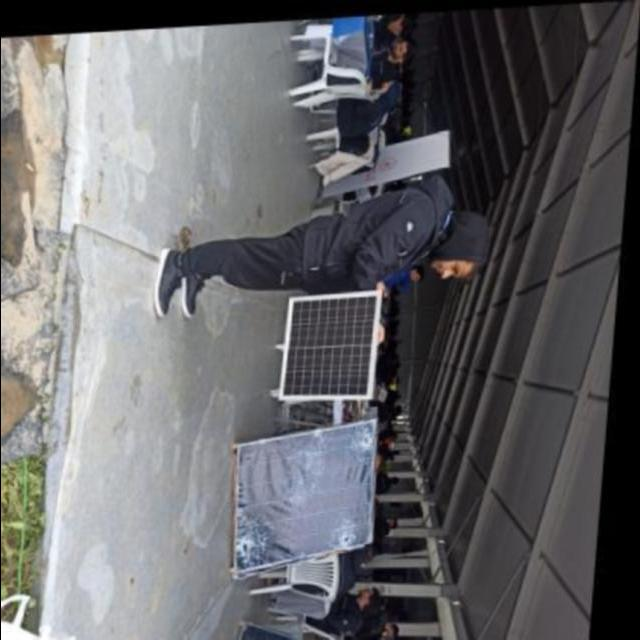cracked: (226, 423, 384, 582)
